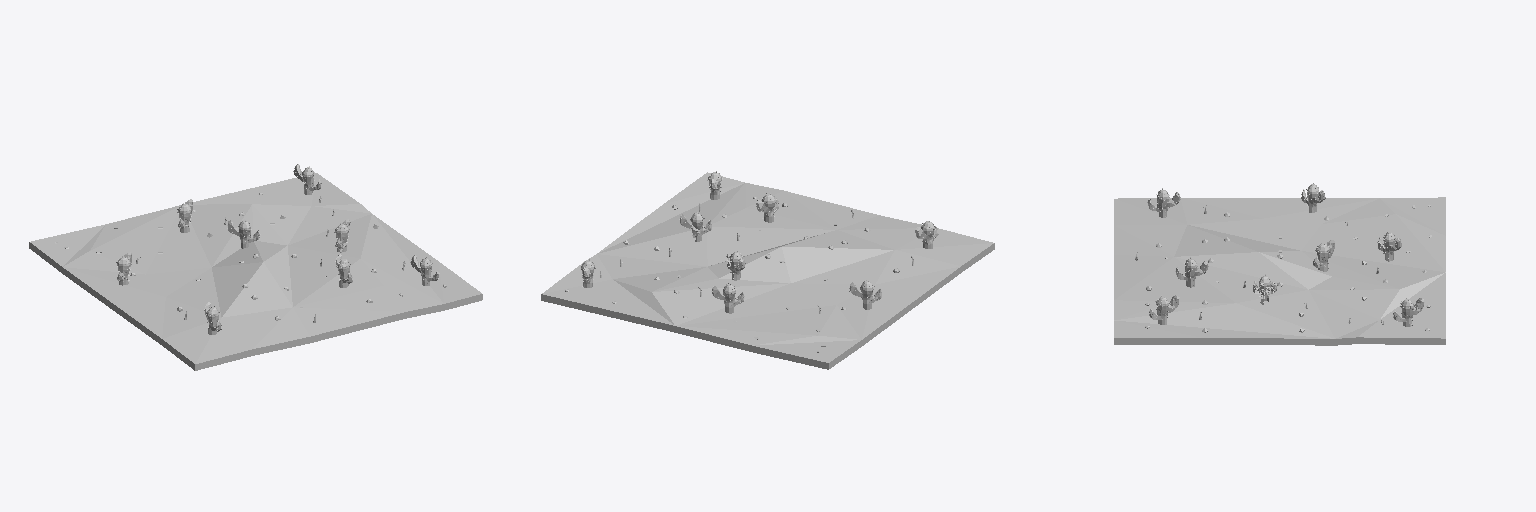
The model's file is floor2.obj.
The picture shows the model from 3 angles: view 1: azimuth 30°, elevation 25°; view 2: azimuth 150°, elevation 25°; view 3: azimuth 270°, elevation 25°; orthographic projection.
Visible parts, largest first — view 1: desert.003; view 2: desert.003; view 3: desert.003.
Boxes of the visible parts, box(x1,y1,x2,y2) form: desert.003: box(29, 164, 482, 370); desert.003: box(541, 171, 994, 369); desert.003: box(1114, 183, 1445, 345).
Size of the model in its own units: 500 by 65.92 by 500.